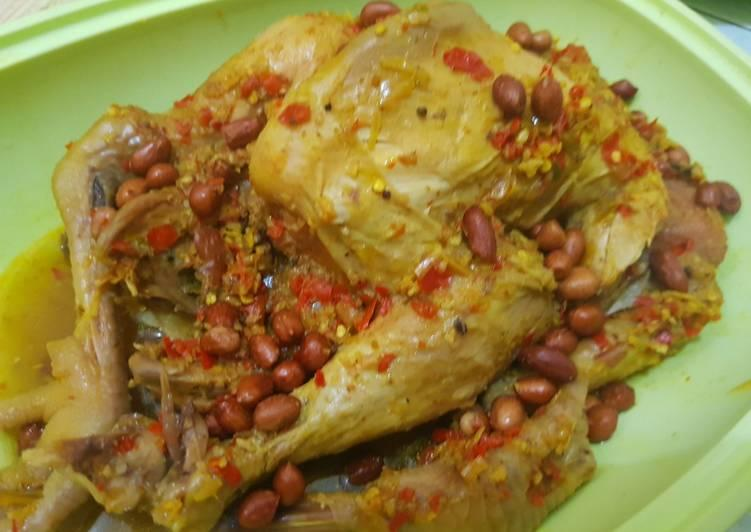ayam_betutu: (51, 13, 729, 517)
